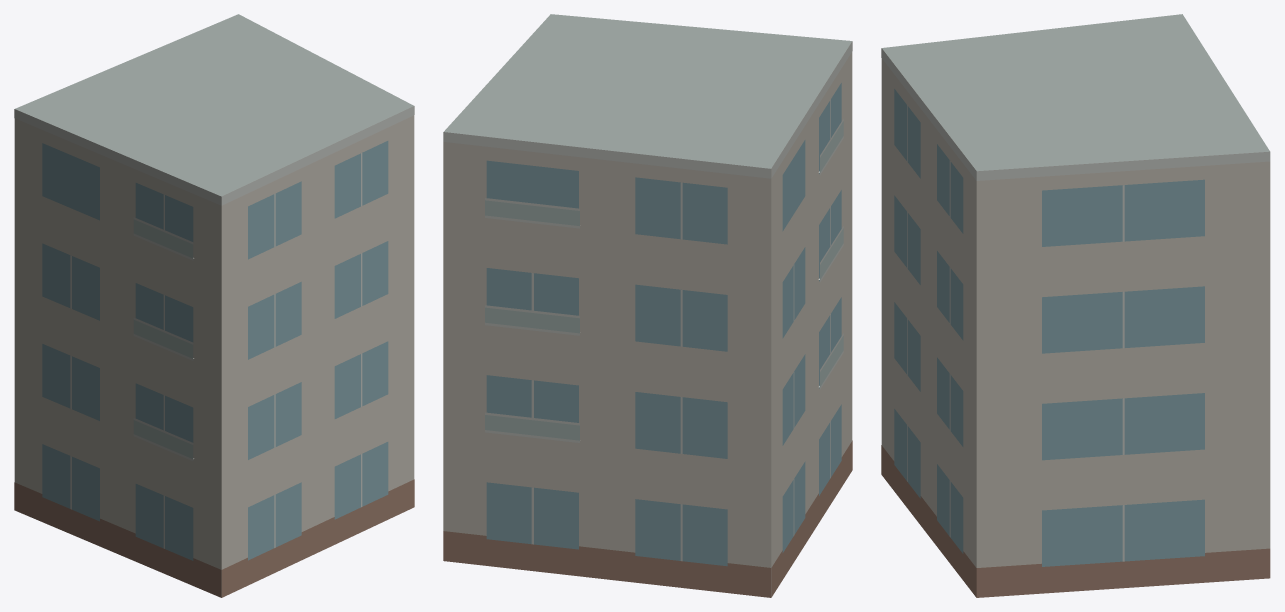
The model's file is survey-upis-33029193.glb.
3 views of the same model, side by side, from view 1: azimuth 30°, elevation 25°; view 2: azimuth 150°, elevation 25°; view 3: azimuth 270°, elevation 25° (orthographic). The views are drawn at different scales.
Visible parts, largest first — view 1: survey-upis-33029193.tmp; view 2: survey-upis-33029193.tmp; view 3: survey-upis-33029193.tmp.
Boxes of the visible parts, x1,y1,x2,y2 form: survey-upis-33029193.tmp: (14, 14, 414, 597); survey-upis-33029193.tmp: (443, 14, 852, 597); survey-upis-33029193.tmp: (881, 14, 1270, 597).
Bounding box in the file's own units: 8.39 × 10.6 × 8.76.
